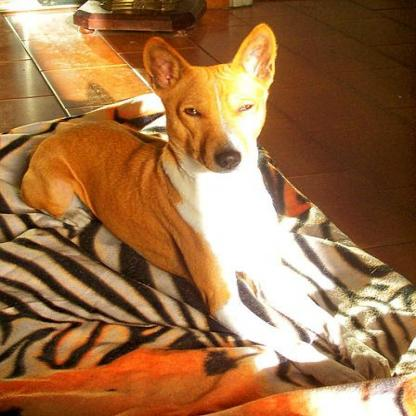basenji: (16, 22, 390, 396)
